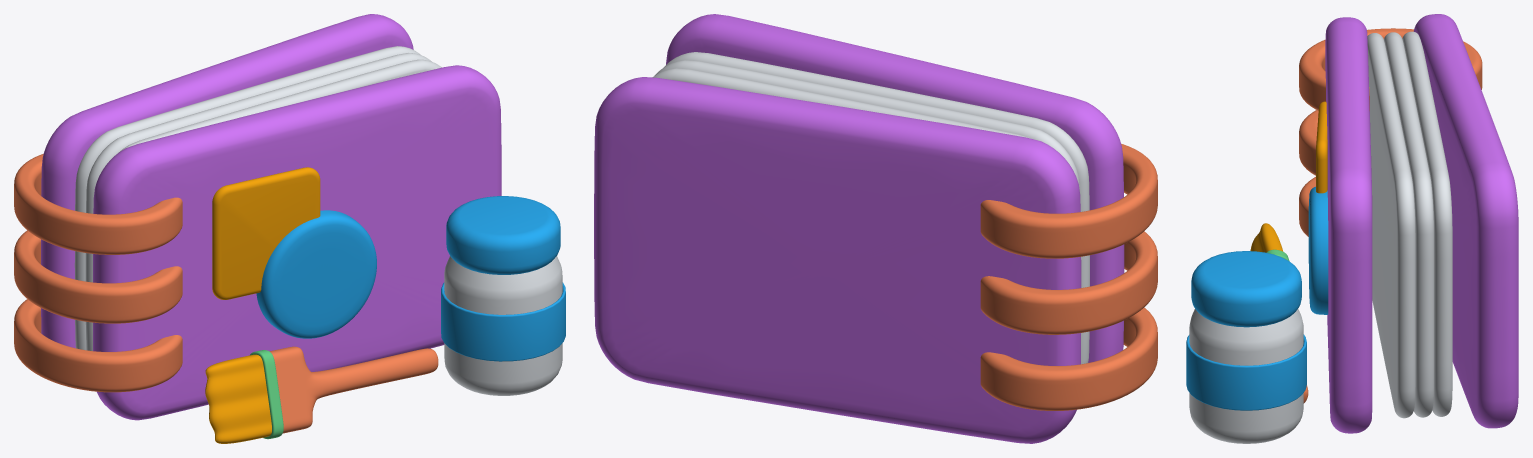
File: 28. Decoupage.glb
3 views of the same model, side by side, from view 1: azimuth 30°, elevation 25°; view 2: azimuth 150°, elevation 25°; view 3: azimuth 270°, elevation 25° (orthographic). The views are drawn at different scales.
Visible parts, largest first — view 1: Plane.002, Cylinder, Plane.001, Cylinder.001, Plane.003, Bottle, Cylinder.005, Cylinder.004, Paintbrush, Cube.002, Cube.001; view 2: Plane.002, Cylinder, Plane.001; view 3: Plane.002, Plane.001, Bottle, Cylinder.005, Cylinder.004, Cylinder, Cylinder.001, Plane.003, Cube.002.
Part boxes in pixels (left/top/right/bottom): Plane.002: left=41, top=14, right=501, bottom=420; Cylinder: left=14, top=154, right=182, bottom=392; Plane.001: left=74, top=46, right=441, bottom=350; Cylinder.001: left=256, top=210, right=376, bottom=338; Plane.003: left=212, top=167, right=320, bottom=299; Bottle: left=444, top=256, right=562, bottom=395; Cylinder.005: left=446, top=196, right=560, bottom=274; Cylinder.004: left=441, top=282, right=565, bottom=361; Paintbrush: left=270, top=346, right=438, bottom=433; Cube.002: left=205, top=354, right=271, bottom=443; Cube.001: left=250, top=350, right=283, bottom=439; Plane.002: left=594, top=14, right=1124, bottom=443; Cylinder: left=980, top=144, right=1157, bottom=410; Plane.001: left=652, top=52, right=1089, bottom=364; Plane.002: left=1325, top=14, right=1518, bottom=433; Plane.001: left=1367, top=31, right=1452, bottom=418; Bottle: left=1189, top=308, right=1303, bottom=443; Cylinder.005: left=1191, top=251, right=1301, bottom=327; Cylinder.004: left=1186, top=334, right=1306, bottom=410; Cylinder: left=1299, top=28, right=1482, bottom=236; Cylinder.001: left=1308, top=186, right=1328, bottom=314; Plane.003: left=1316, top=101, right=1327, bottom=193; Cube.002: left=1250, top=223, right=1283, bottom=252.
Bounding box in the file's own units: 0.9494 × 0.557 × 0.6257.
